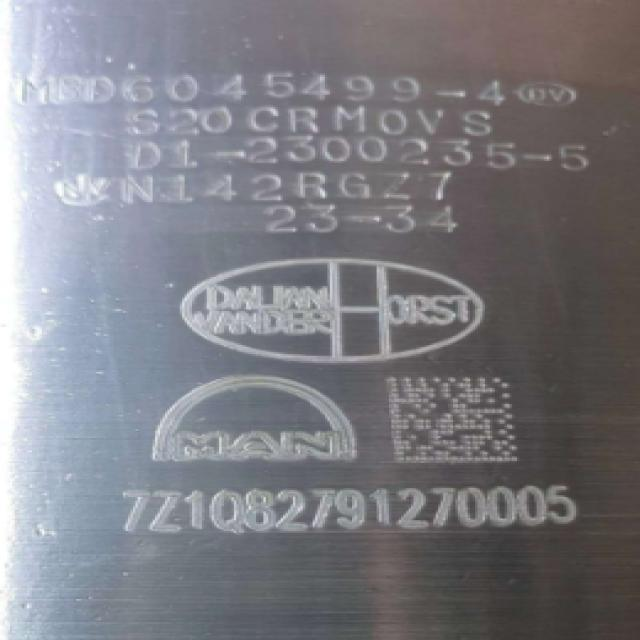dmc: (385, 377, 518, 462)
